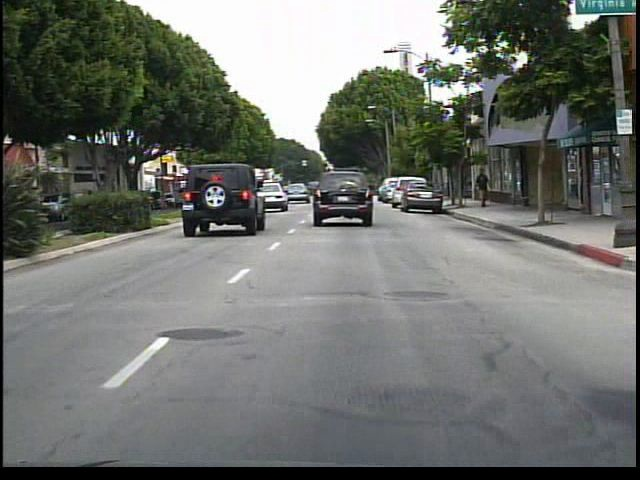person: (471, 166, 494, 211)
